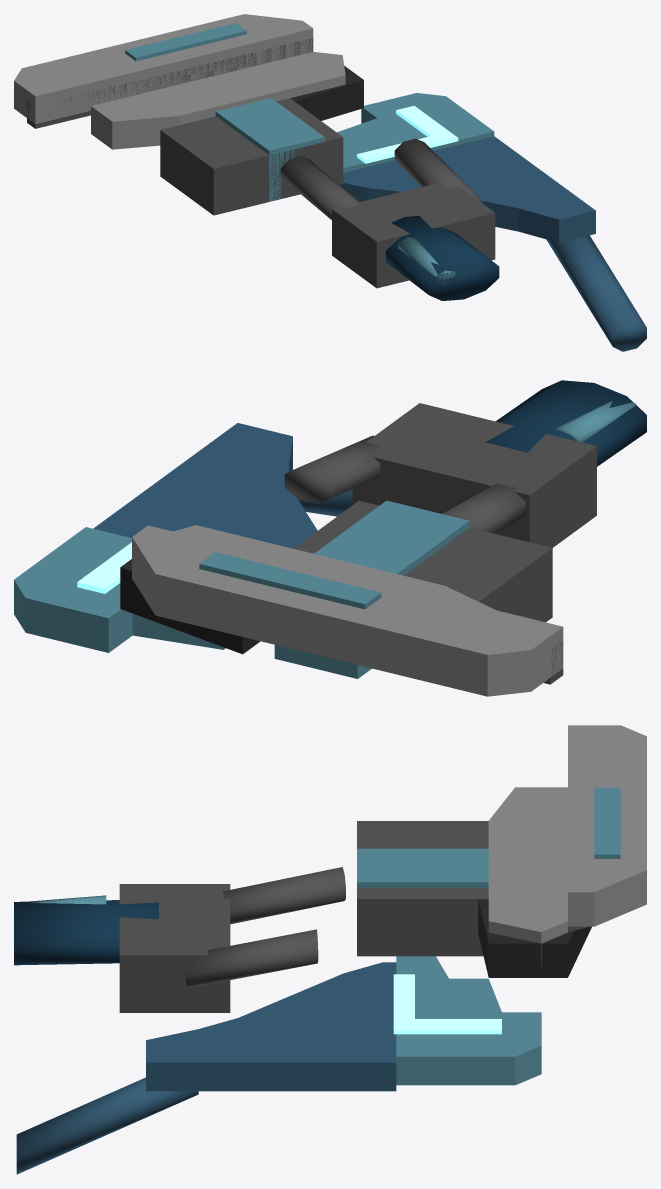
The model's file is newshc-245.glb.
3 views of the same model, one above another, from view 1: azimuth 30°, elevation 25°; view 2: azimuth 150°, elevation 25°; view 3: azimuth 270°, elevation 25° (orthographic). The views are drawn at different scales.
Parts seen in each view (by area): view 1: newshc-245; view 2: newshc-245; view 3: newshc-245.
Boxes of the visible parts, left/top/right/bottom form: newshc-245: left=14, top=14, right=646, bottom=351; newshc-245: left=14, top=380, right=646, bottom=696; newshc-245: left=14, top=725, right=646, bottom=1174.
Bounding box in the file's own units: 1.75 × 0.7904 × 2.
